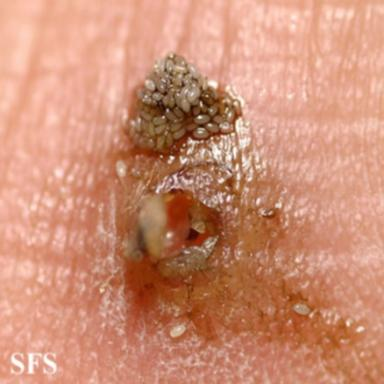Tungiasis: (130, 52, 241, 153), (133, 190, 218, 279)
